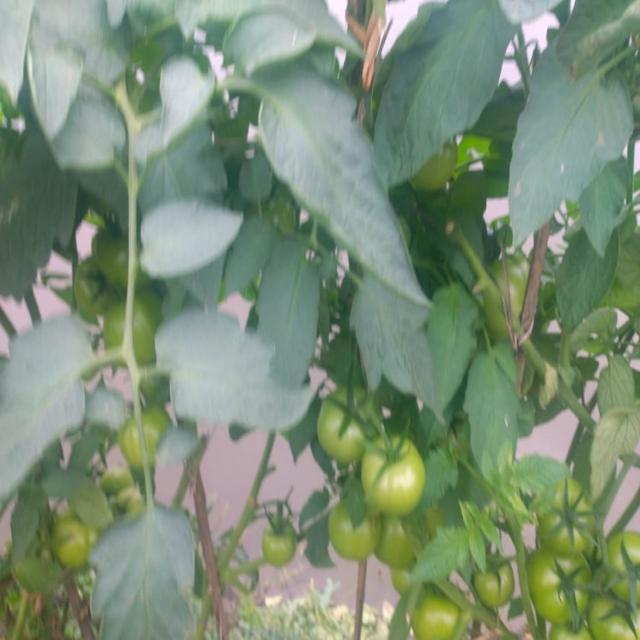tomato: (355, 433, 436, 518), (523, 532, 589, 618), (95, 291, 170, 365), (535, 471, 600, 553), (322, 495, 381, 582), (94, 221, 159, 293), (318, 382, 376, 457), (599, 520, 640, 608), (466, 546, 517, 615), (51, 514, 102, 581), (483, 262, 532, 331), (375, 515, 435, 571), (590, 573, 640, 640), (115, 407, 171, 465), (408, 589, 465, 640), (259, 515, 304, 577), (72, 256, 112, 318), (115, 475, 150, 517), (546, 608, 590, 640), (102, 464, 134, 495)
